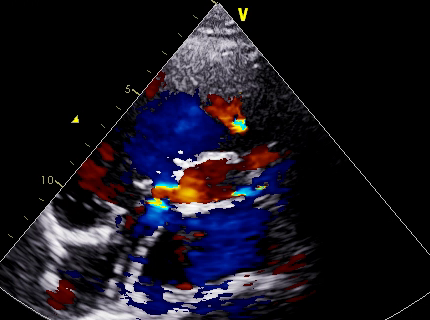TR: (109, 140, 193, 241)
